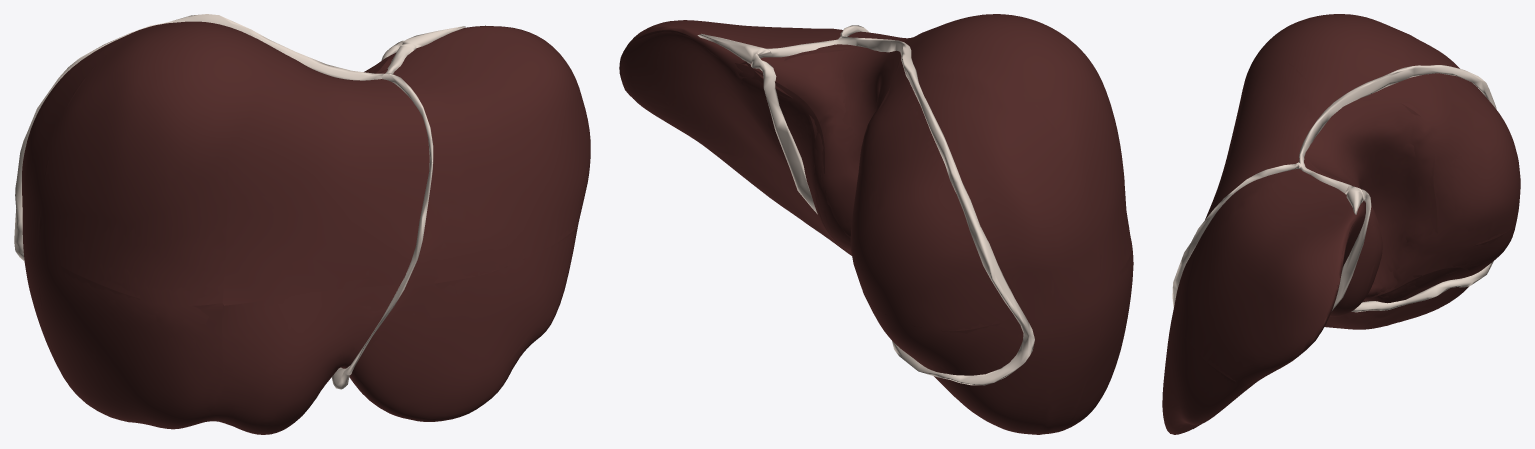
File: vh_f_liver-40.glb
3 views of the same model, side by side, from view 1: azimuth 30°, elevation 25°; view 2: azimuth 150°, elevation 25°; view 3: azimuth 270°, elevation 25° (orthographic). The views are drawn at different scales.
Parts seen in each view (by area): view 1: VH_F_capsule_of_the_liver, VH_F_left_superomedial_segment1, VH_F_right_anterosuperior_segment, VH_F_left_inferomedial_segment, VH_F_right_anteroinferior_segment, VH_F_left_superomedial_segment, VH_F_coronary_ligament_of_liver, VH_F_left_anterolateral_segment, VH_F_falciform_ligament; view 2: VH_F_capsule_of_the_liver, VH_F_bare_area_of_liver, VH_F_left_superomedial_segment, VH_F_diaphragmatic_surface_of_liver, VH_F_coronary_ligament_of_liver, VH_F_right_posterosuperior_segment, VH_F_caudate_lobe, VH_F_ligamentum_venosum, VH_F_gastric_impression_of_liver, VH_F_right_anterosuperior_segment, VH_F_right_posteroinferior_segment, VH_F_left_anterolateral_segment (+3 smaller); view 3: VH_F_capsule_of_the_liver, VH_F_bare_area_of_liver, VH_F_caudate_lobe, VH_F_coronary_ligament_of_liver, VH_F_left_superomedial_segment, VH_F_right_posterosuperior_segment, VH_F_left_superomedial_segment1, VH_F_diaphragmatic_surface_of_liver, VH_F_falciform_ligament, VH_F_ligamentum_venosum, VH_F_right_posteroinferior_segment, VH_F_left_anterolateral_segment (+3 smaller).
Boxes of the visible parts, box(x1,y1,x2,y2) form: VH_F_capsule_of_the_liver: box(22, 21, 590, 434); VH_F_left_superomedial_segment1: box(222, 55, 433, 305); VH_F_right_anterosuperior_segment: box(38, 23, 273, 305); VH_F_left_inferomedial_segment: box(209, 284, 398, 433); VH_F_right_anteroinferior_segment: box(38, 248, 223, 426); VH_F_left_superomedial_segment: box(380, 29, 588, 284); VH_F_coronary_ligament_of_liver: box(14, 14, 413, 261); VH_F_left_anterolateral_segment: box(342, 226, 577, 419); VH_F_falciform_ligament: box(344, 73, 433, 375); VH_F_capsule_of_the_liver: box(620, 14, 1133, 434); VH_F_bare_area_of_liver: box(750, 47, 1023, 375); VH_F_left_superomedial_segment: box(622, 23, 840, 178); VH_F_diaphragmatic_surface_of_liver: box(619, 30, 996, 425); VH_F_coronary_ligament_of_liver: box(767, 36, 1034, 385); VH_F_right_posterosuperior_segment: box(851, 61, 1101, 331); VH_F_caudate_lobe: box(779, 47, 899, 248); VH_F_ligamentum_venosum: box(751, 53, 817, 214); VH_F_gastric_impression_of_liver: box(665, 64, 851, 255); VH_F_right_anterosuperior_segment: box(896, 16, 1132, 282); VH_F_right_posteroinferior_segment: box(866, 283, 1101, 433); VH_F_left_anterolateral_segment: box(716, 151, 843, 247); VH_F_capsule_of_the_liver: box(1162, 14, 1472, 434); VH_F_bare_area_of_liver: box(1306, 74, 1520, 299); VH_F_caudate_lobe: box(1305, 98, 1439, 315); VH_F_coronary_ligament_of_liver: box(1298, 65, 1496, 312); VH_F_left_superomedial_segment: box(1176, 172, 1364, 381); VH_F_right_posterosuperior_segment: box(1393, 30, 1518, 245); VH_F_left_superomedial_segment1: box(1197, 57, 1323, 243); VH_F_diaphragmatic_surface_of_liver: box(1170, 201, 1495, 433); VH_F_falciform_ligament: box(1172, 162, 1298, 307); VH_F_ligamentum_venosum: box(1332, 189, 1371, 310); VH_F_right_posteroinferior_segment: box(1386, 226, 1513, 325); VH_F_left_anterolateral_segment: box(1163, 298, 1235, 427).
Bounding box in the file's own units: 0.2471 × 0.17 × 0.1663.
